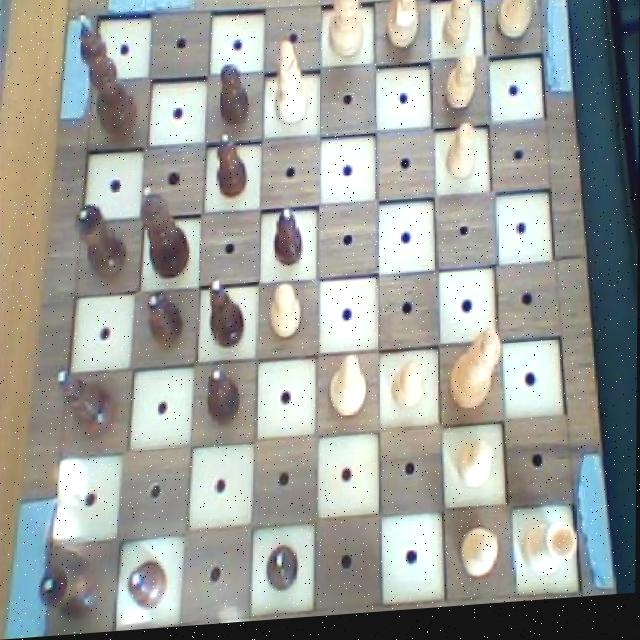bishop: (51, 362, 121, 446), (204, 273, 248, 356)
black-bishop: (72, 7, 145, 147)
black-knight: (143, 284, 188, 354), (214, 52, 252, 132), (202, 368, 247, 435), (127, 552, 172, 616), (268, 204, 307, 275), (212, 129, 248, 205), (261, 545, 304, 601)
black-pawn: (137, 178, 195, 289)
black-queen: (71, 199, 130, 288), (38, 556, 103, 628)
black-rook: (268, 36, 310, 137), (325, 354, 370, 425)
white-bishop: (444, 329, 506, 426)
white-king: (380, 0, 423, 61)
white-knight: (451, 438, 498, 502), (455, 529, 502, 593), (440, 123, 484, 191), (439, 55, 482, 122), (264, 281, 305, 351), (388, 359, 428, 418), (438, 0, 476, 58)
white-pawn: (322, 0, 370, 69)
white-queen: (518, 518, 581, 589), (492, 0, 550, 54)
